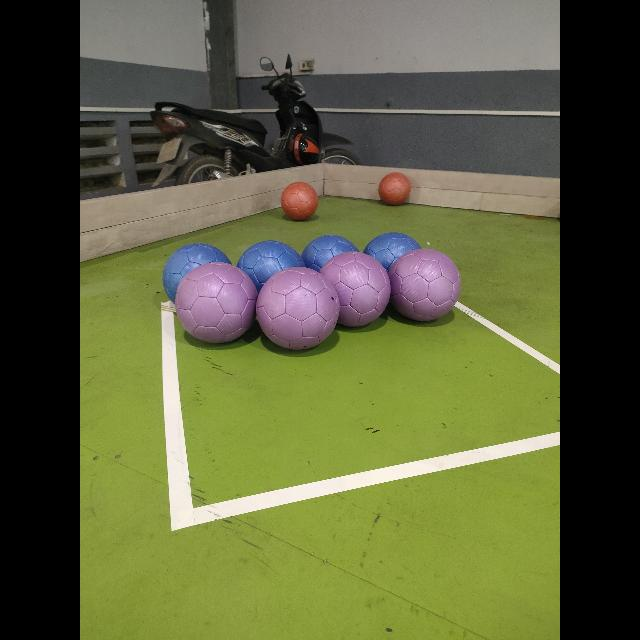B: (162, 242, 232, 302), (237, 241, 305, 291), (364, 232, 421, 270), (302, 234, 358, 272)
P: (257, 267, 339, 349), (176, 262, 256, 342), (319, 251, 391, 325), (388, 248, 460, 320)
R: (280, 182, 318, 220), (378, 172, 410, 204)
